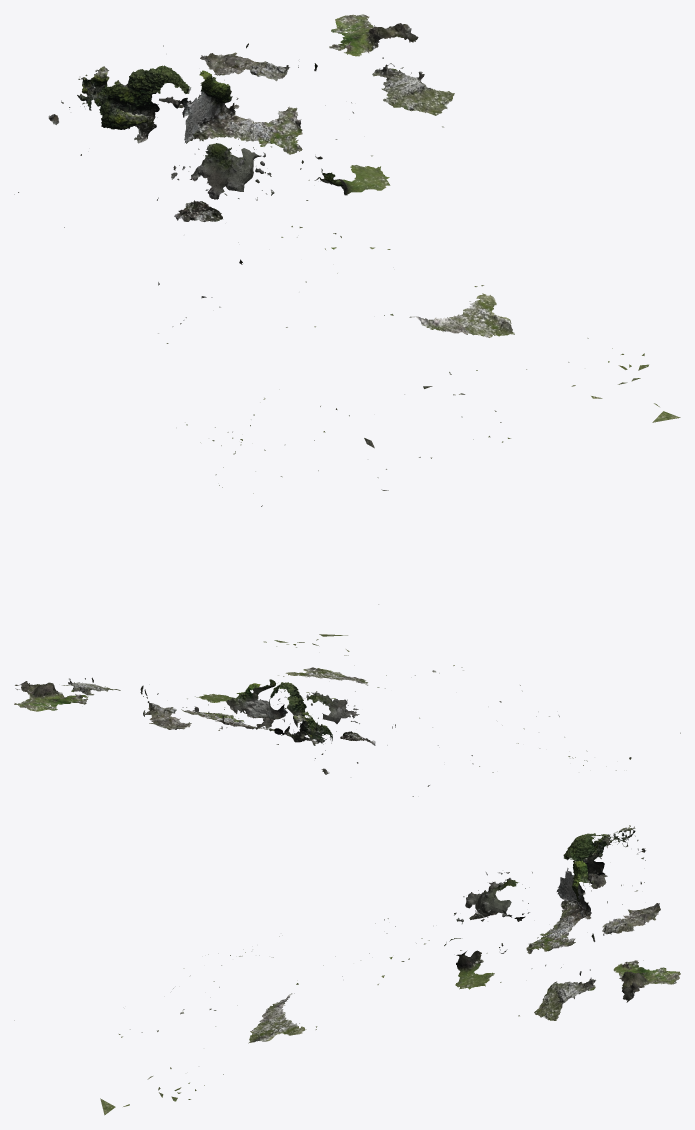
3 views of the same model, one above another, from view 1: azimuth 30°, elevation 25°; view 2: azimuth 150°, elevation 25°; view 3: azimuth 270°, elevation 25° (orthographic). The views are drawn at different scales.
Size of the model in its own units: 59.34 by 34.62 by 89.25.
1 material, 1 textured.
